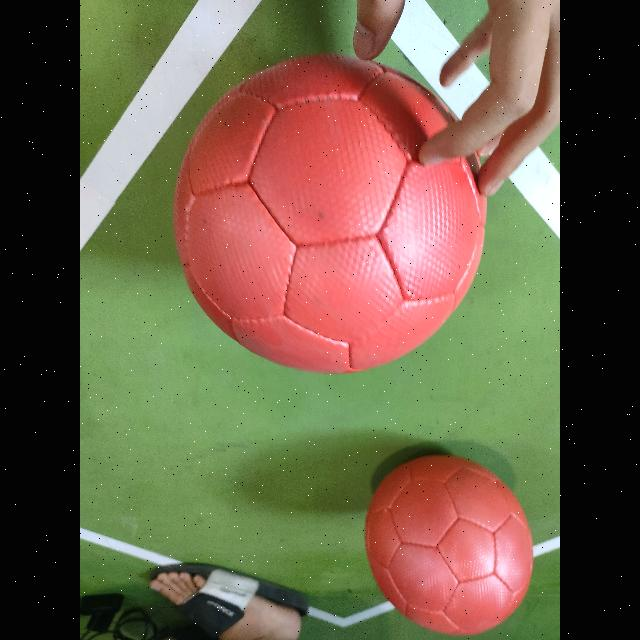R: (176, 52, 488, 374), (366, 454, 532, 636)
